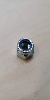Nut: (13, 36, 38, 61)
